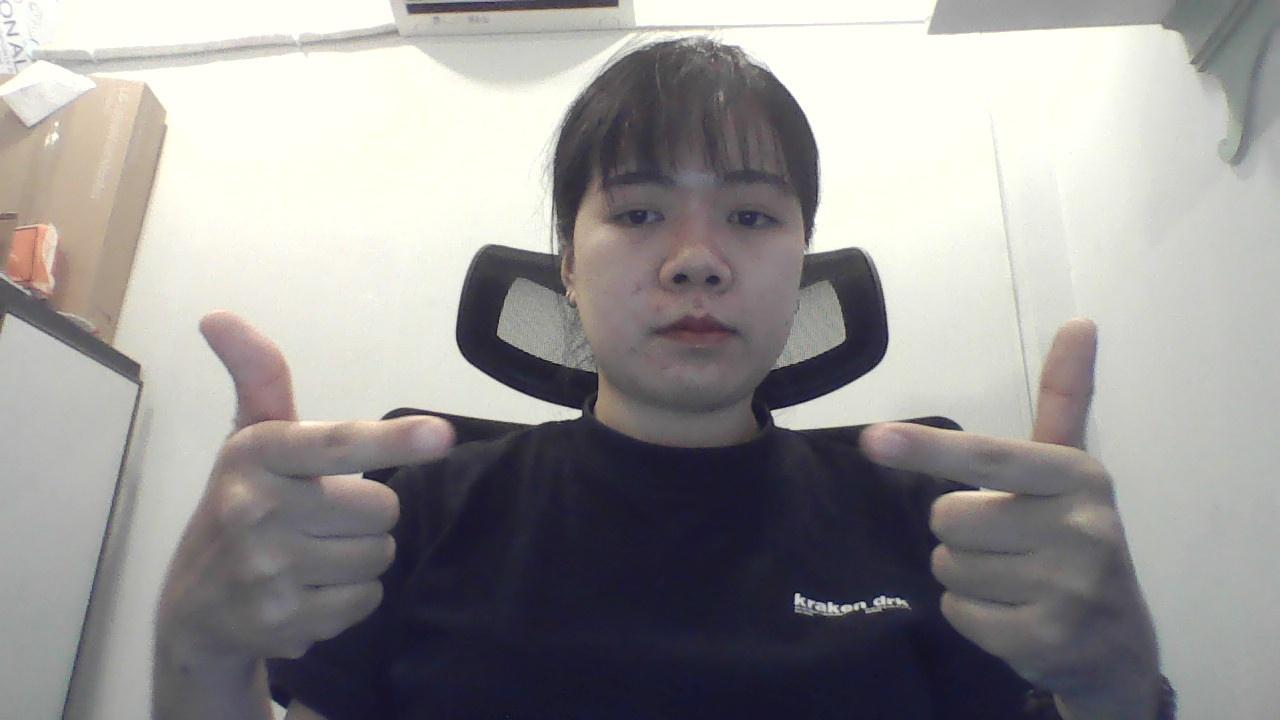G: (150, 297, 467, 707), (832, 308, 1140, 710)
